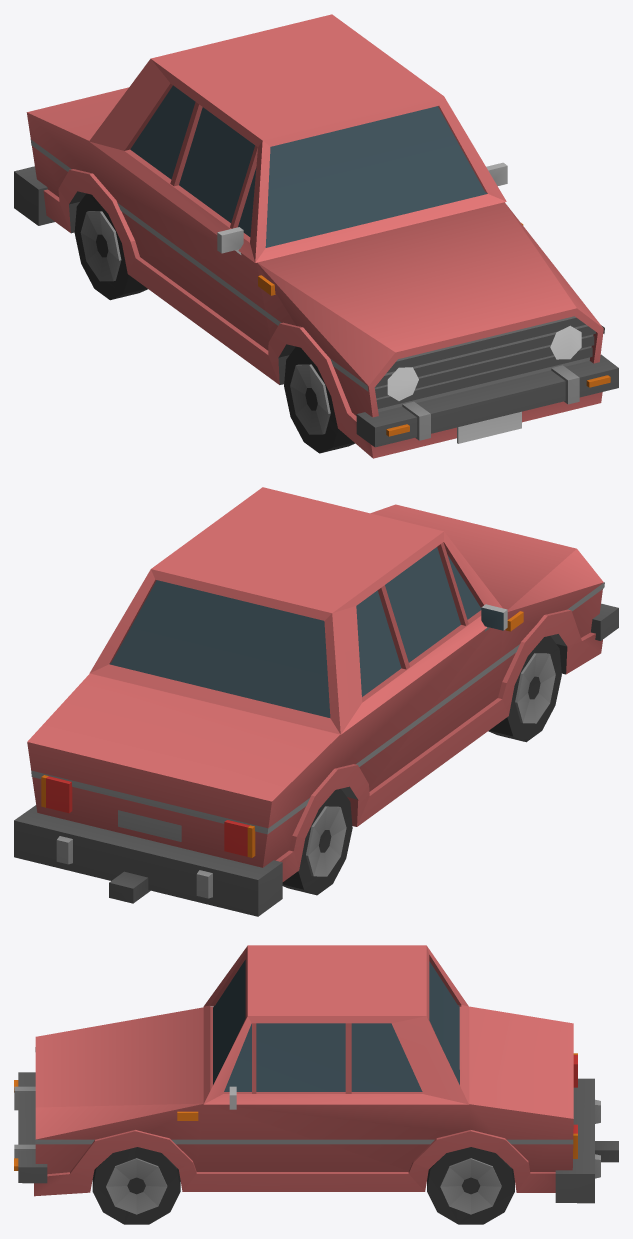
Rendered from car_005.glb.
3 views of the same model, one above another, from view 1: azimuth 30°, elevation 25°; view 2: azimuth 150°, elevation 25°; view 3: azimuth 270°, elevation 25° (orthographic). The views are drawn at different scales.
Visible parts, largest first — view 1: car_005; view 2: car_005; view 3: car_005.
Boxes of the visible parts, x1,y1,x2,y2 form: car_005: (14,14,618,458); car_005: (14,487,618,916); car_005: (14,945,618,1224).
Bounding box in the file's own units: 1.89 × 1.59 × 4.34.
1 material, 1 textured.
